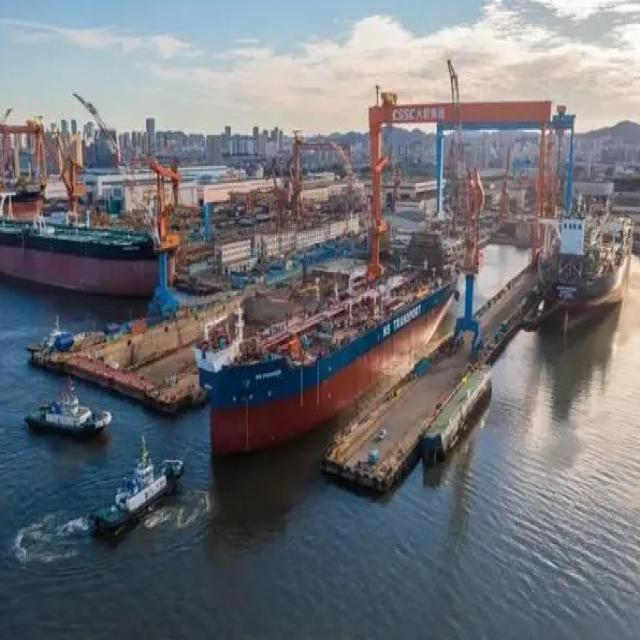cargoship: (184, 248, 448, 461), (538, 184, 629, 318)
